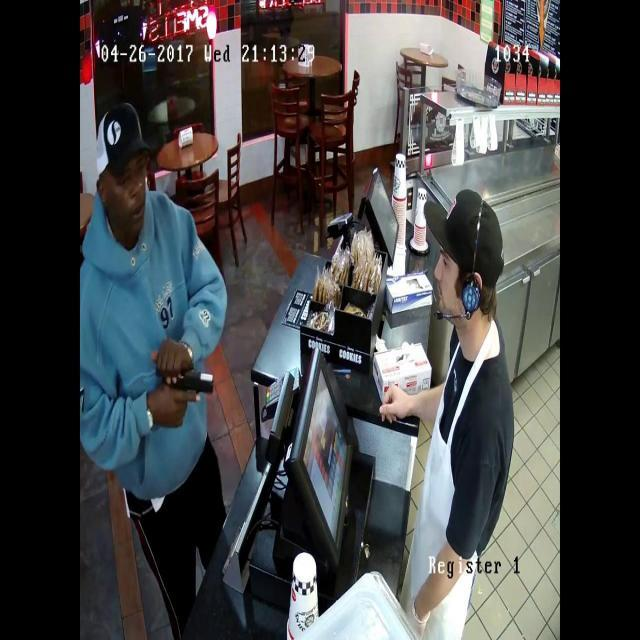weapon: (138, 338, 224, 413)
